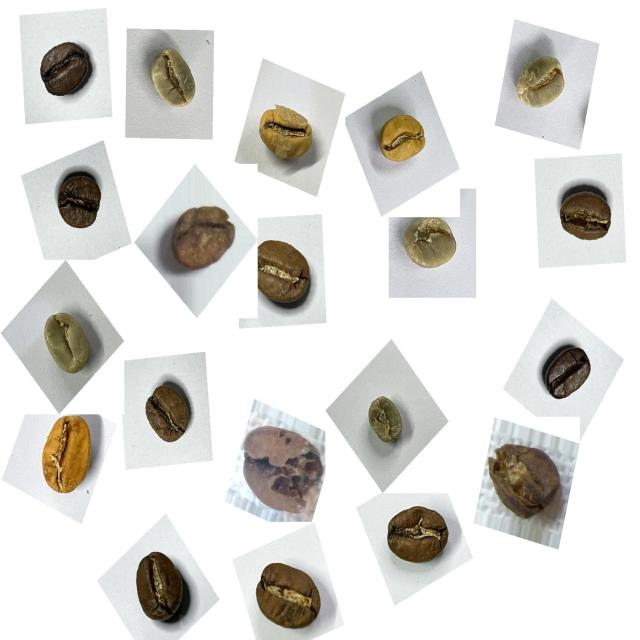bad: (237, 414, 331, 523), (483, 432, 571, 532), (164, 191, 245, 281)
dark: (31, 30, 100, 111), (536, 333, 602, 411)
green: (137, 38, 208, 122), (31, 302, 100, 388), (506, 45, 577, 127), (393, 213, 465, 284), (357, 387, 414, 456)
light: (30, 411, 106, 508), (250, 94, 324, 177), (372, 105, 437, 179)
medium: (244, 553, 330, 640), (123, 544, 199, 637), (246, 228, 322, 319), (377, 496, 458, 578), (134, 375, 202, 457)
